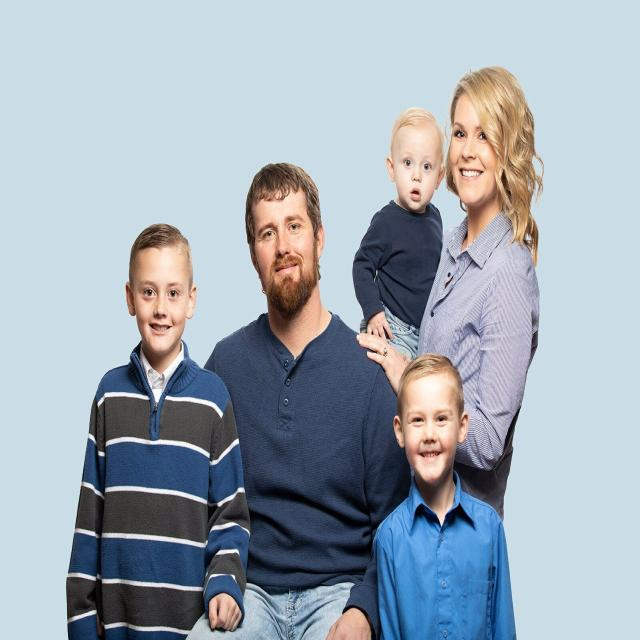adult: (188, 162, 408, 640), (356, 67, 542, 526)
child: (66, 223, 252, 640), (377, 354, 516, 640), (351, 106, 447, 354)
